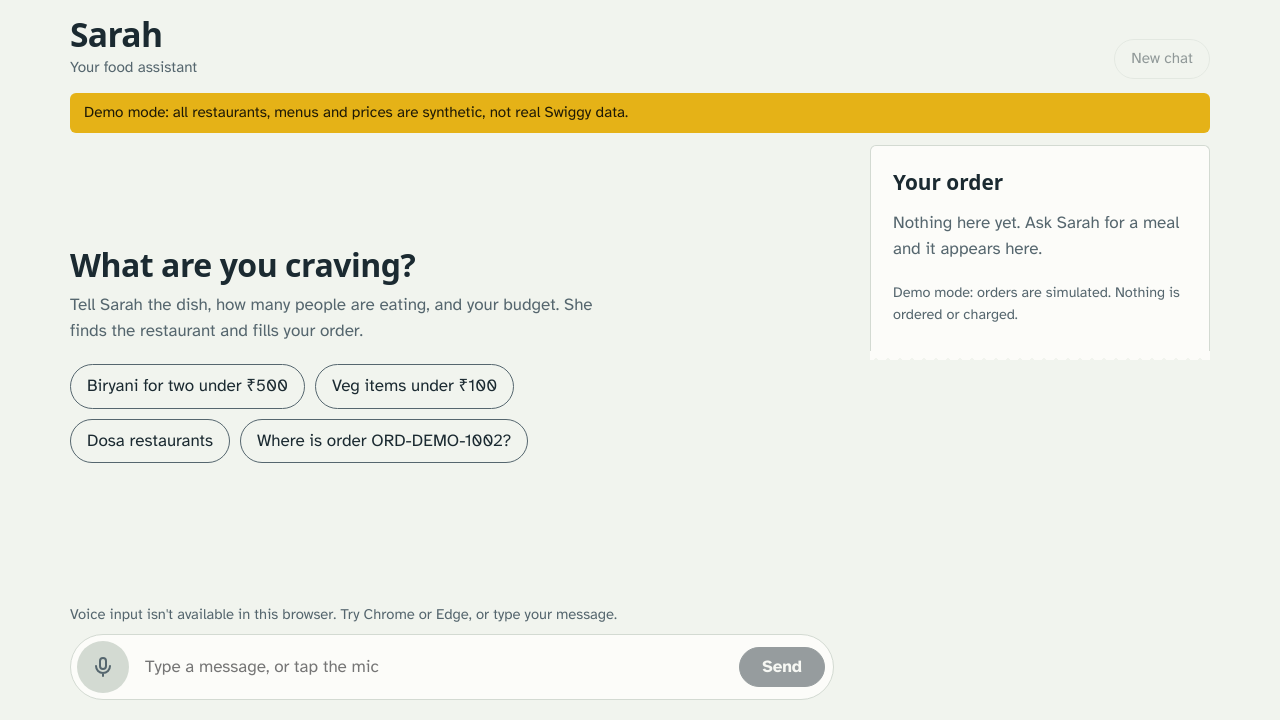
Test case: ChatApp: checkout › asks for confirmation with buttons, orders only on Yes, then clears the order slip
Expected: the text "Demo mode: orders are simulated" is shown, top-left (893, 283), bottom-right (1180, 323)
In the field named "Message to Sarah": (434, 667) top-left (139, 644), bottom-right (729, 690), type "checkout"
Then press Enter
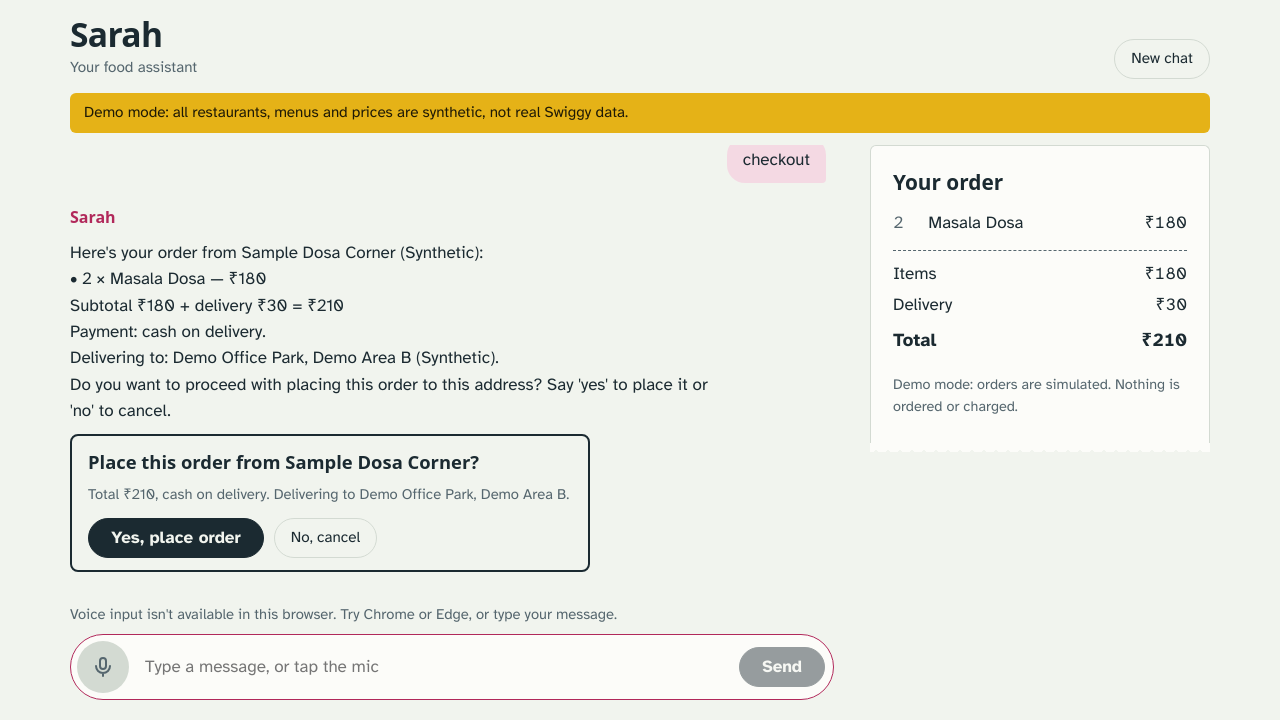
Expected: the element named "Confirm your order" shows "Delivering to Demo Office Park", top-left (70, 434), bottom-right (590, 572)
Expected: the text "Masala Dosa" is shown, top-left (928, 212), bottom-right (1024, 233)
Click the button "Yes, place order": (176, 538) top-left (88, 518), bottom-right (264, 558)
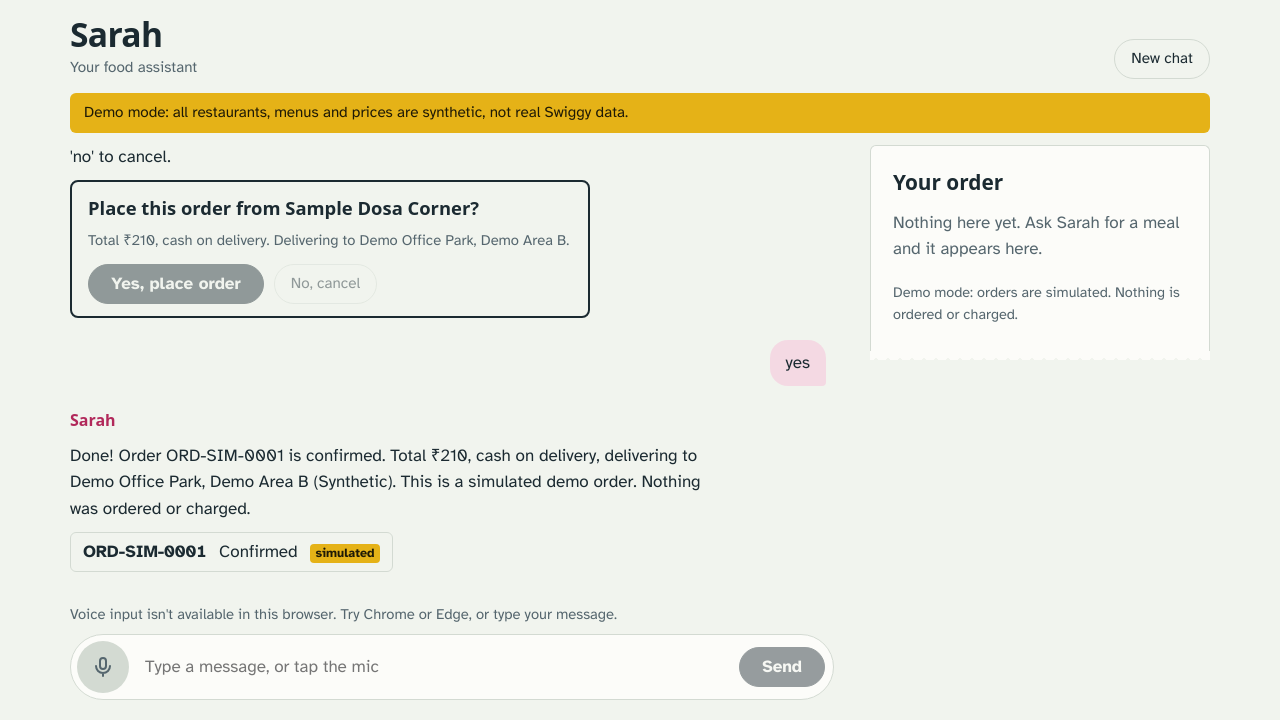
Expected: the text "Order ORD-SIM-0001 is confirmed" is shown, top-left (70, 445), bottom-right (701, 519)
Expected: the text "simulated" is shown, top-left (310, 544), bottom-right (380, 563)
Expected: the text "Nothing here yet. Ask Sarah for a meal and it appears here." is shown, top-left (893, 210), bottom-right (1187, 263)
